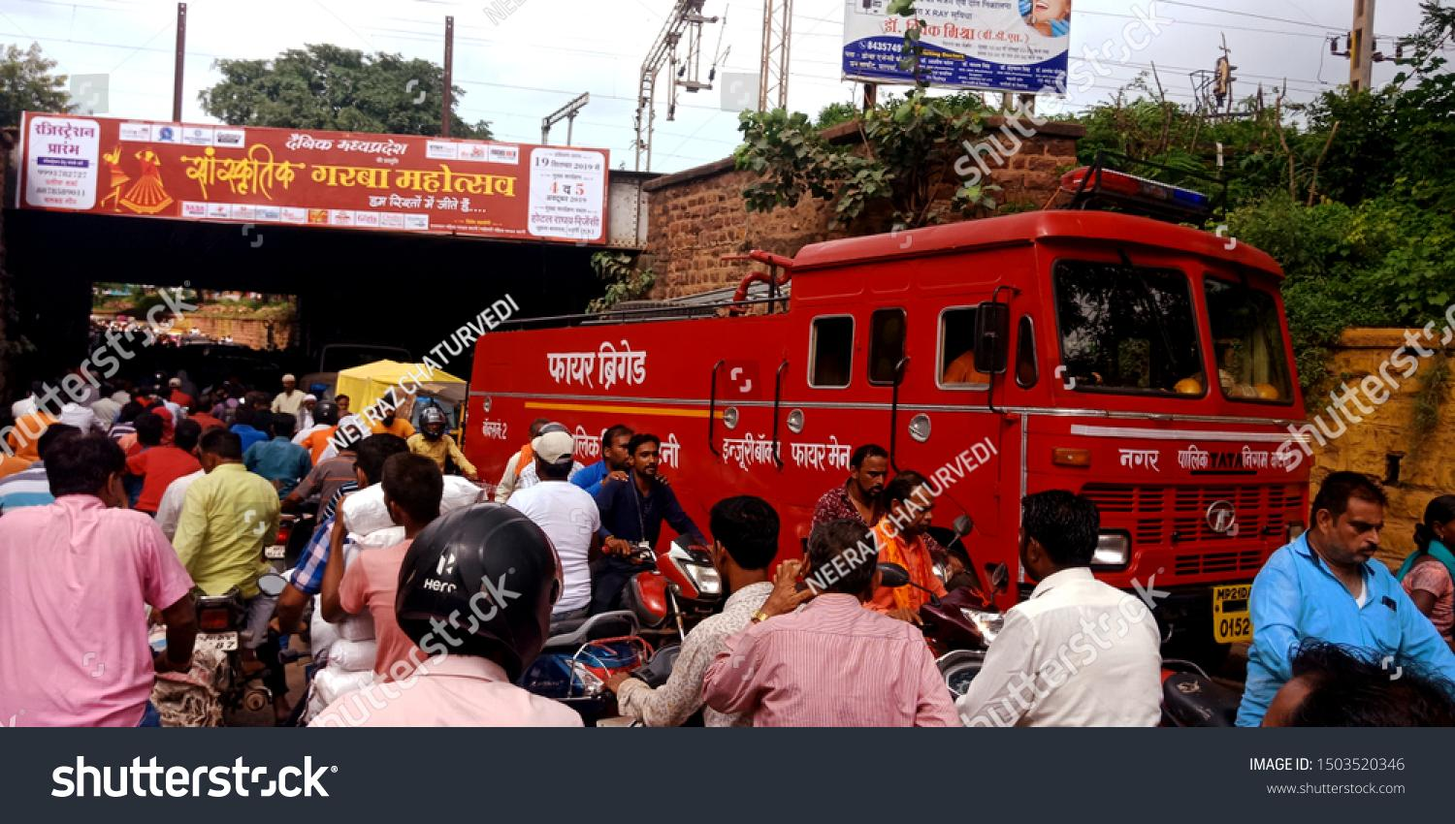Emergency-Vehicles: (460, 206, 1300, 642)
